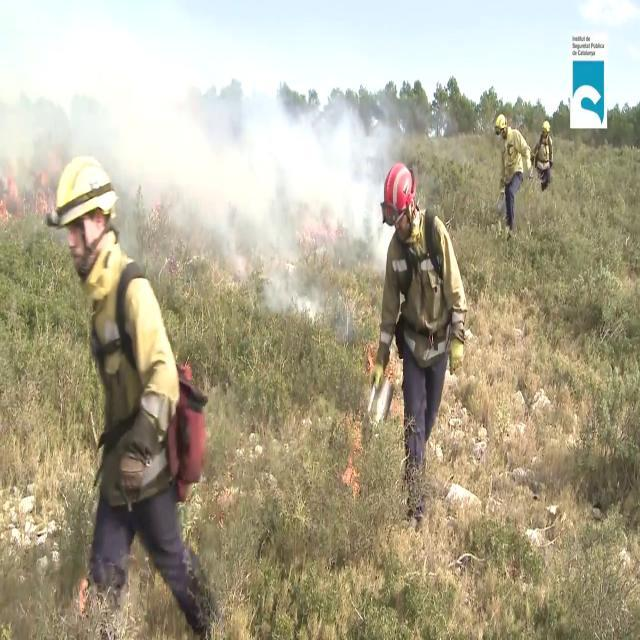Smoke: (2, 0, 391, 292)
